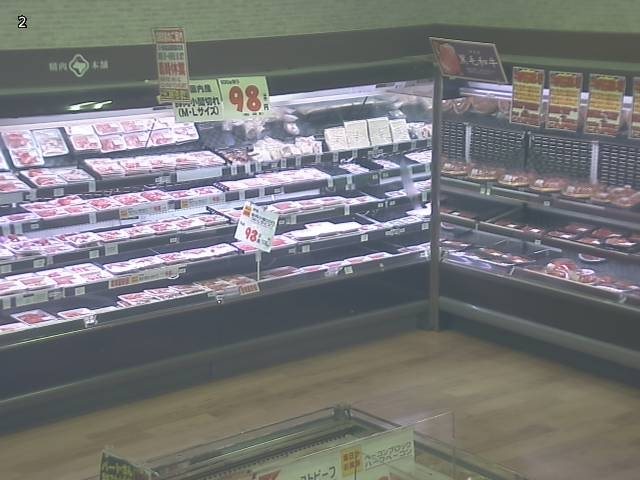meat: (0, 251, 393, 335), (0, 241, 261, 294), (0, 211, 228, 260), (0, 184, 220, 224), (271, 202, 431, 250), (64, 114, 198, 153), (85, 151, 227, 178), (221, 136, 322, 165), (2, 128, 69, 169), (220, 167, 327, 191), (261, 194, 379, 214), (21, 167, 93, 188), (0, 170, 31, 193), (339, 162, 369, 175)
meatless: (0, 230, 430, 325), (285, 104, 432, 152), (103, 140, 208, 158), (196, 122, 250, 150), (339, 181, 403, 198), (47, 149, 104, 167), (264, 120, 292, 143), (383, 153, 420, 165)
